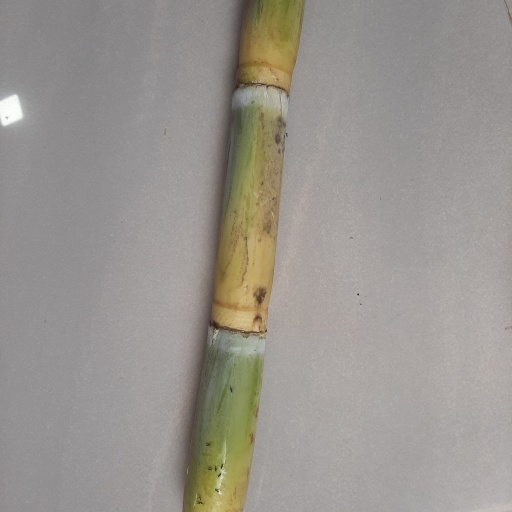Bud: (250, 315, 265, 335)
